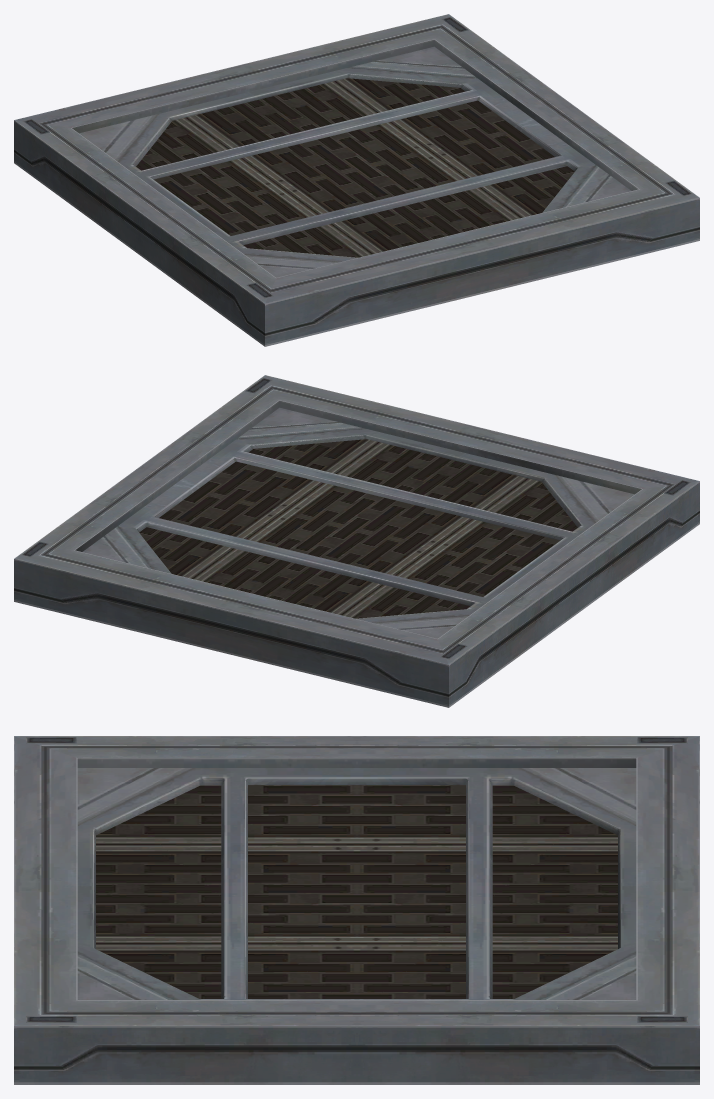
The model's file is all_item_imp_scaffold_platform_d.glb.
3 renders of one model, top to bottom at view 1: azimuth 30°, elevation 25°; view 2: azimuth 150°, elevation 25°; view 3: azimuth 270°, elevation 25°, orthographic. The views are drawn at different scales.
Parts seen in each view (by area): view 1: all_item_imp_scaffold_platform_d; view 2: all_item_imp_scaffold_platform_d; view 3: all_item_imp_scaffold_platform_d.
Boxes of the visible parts, x1=… form: all_item_imp_scaffold_platform_d: x1=14, y1=14, x2=699, y2=346; all_item_imp_scaffold_platform_d: x1=14, y1=375, x2=699, y2=707; all_item_imp_scaffold_platform_d: x1=14, y1=736, x2=699, y2=1084.
Bounding box in the file's own units: 0.8 × 0.0778 × 0.8.
Materials: 3 (3 with a texture image).
